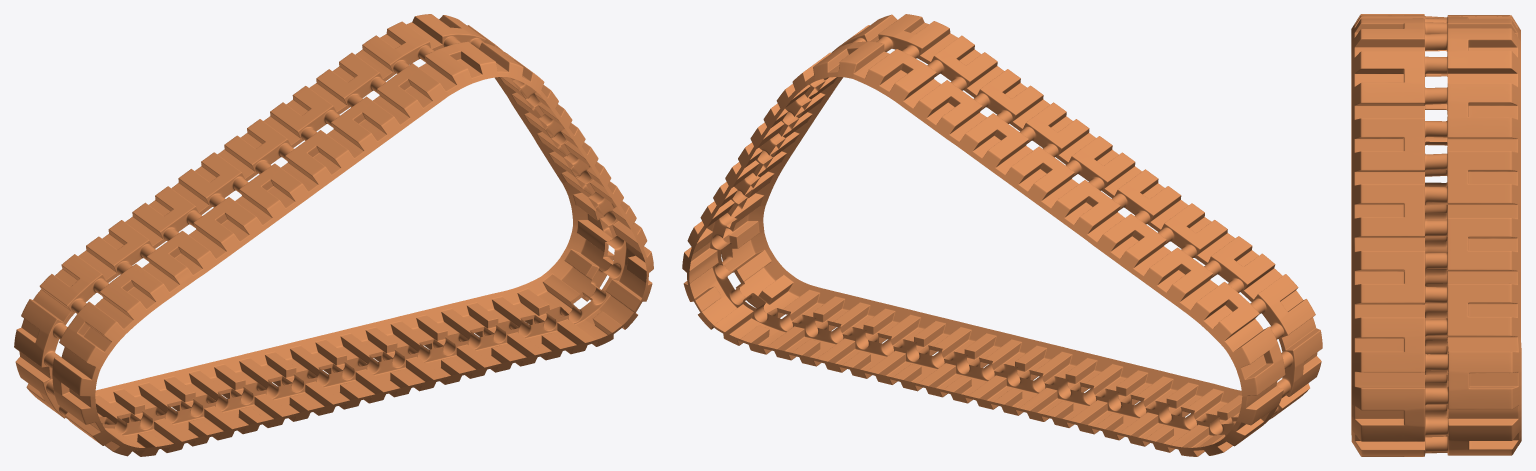
3 views of the same model, side by side, from view 1: azimuth 30°, elevation 25°; view 2: azimuth 150°, elevation 25°; view 3: azimuth 270°, elevation 25° (orthographic). The views are drawn at different scales.
Visible parts, largest first — view 1: Box072; view 2: Box072; view 3: Box072.
Part boxes in pixels (x1,y1,x2,y2): Box072: [14, 14, 653, 456]; Box072: [682, 14, 1322, 456]; Box072: [1351, 14, 1521, 456].
Size of the model in its own units: 44.67 by 23.24 by 9.98.
